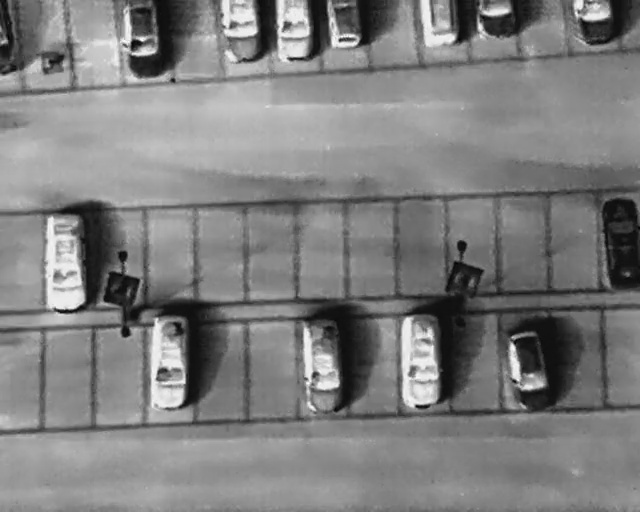Car: (41, 210, 90, 314), (502, 328, 556, 417), (400, 312, 442, 410), (302, 318, 344, 415), (150, 314, 189, 410), (606, 196, 638, 293), (121, 2, 161, 78), (221, 2, 263, 62), (275, 0, 313, 62), (420, 1, 459, 48), (575, 1, 616, 45), (327, 1, 363, 49), (476, 3, 518, 39)
